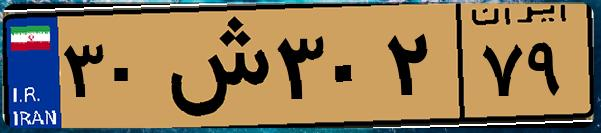0: (330, 28, 385, 110), (110, 28, 158, 98)
2: (385, 28, 445, 110)
3: (270, 28, 330, 110), (57, 26, 110, 100)
7: (475, 38, 525, 113)
9: (525, 38, 570, 115)
ش: (158, 12, 270, 120)
